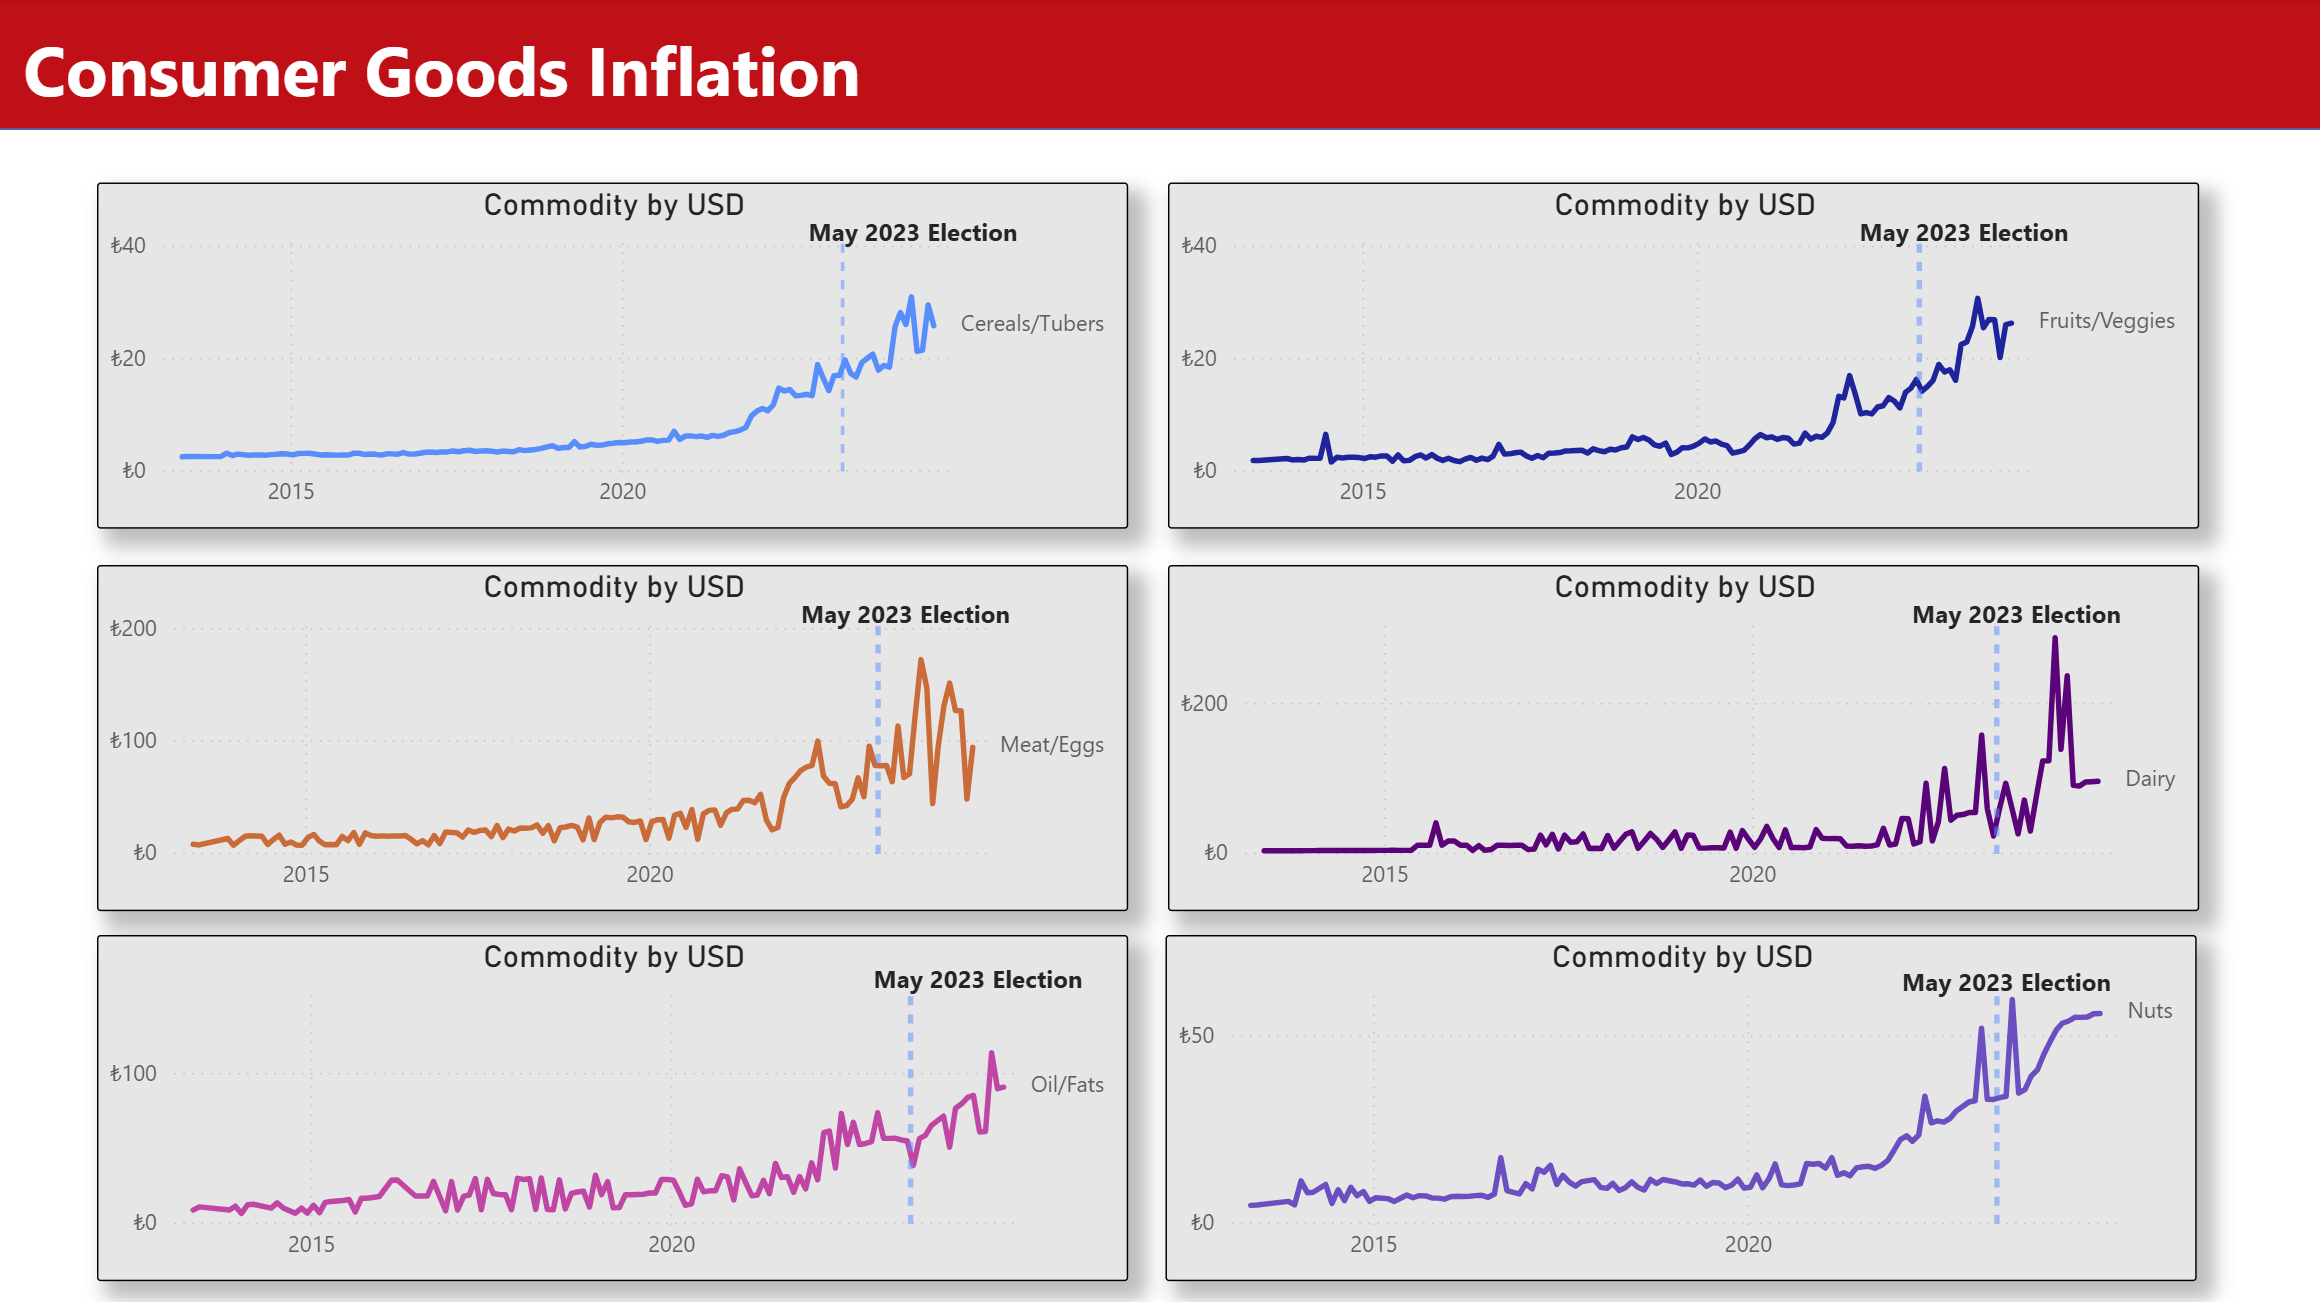

What the dashboard file says about the page in this screenshot:
{"tool":"powerbi","page":{"name":"Inflation","canvas":[1280,720],"ordinal":2},"visuals":[{"type":"shape","box":[0,0,1280.3,74.1],"z":0},{"type":"lineChart","title":"Commodity by USD","fields":{"Category":["wfp_food_prices_tur.date"],"Series":["wfp_food_prices_tur.category"],"Y":["Median(wfp_food_prices_tur.price)"]},"box":[55,103.2,566.1,190],"z":1000},{"type":"lineChart","title":"Commodity by USD","fields":{"Category":["wfp_food_prices_tur.date"],"Series":["wfp_food_prices_tur.category"],"Y":["Median(wfp_food_prices_tur.price)"]},"box":[55,312.9,566.1,190],"z":2000},{"type":"lineChart","title":"Commodity by USD","fields":{"Category":["wfp_food_prices_tur.date"],"Series":["wfp_food_prices_tur.category"],"Y":["Median(wfp_food_prices_tur.price)"]},"box":[54.5,516.4,566.1,190],"z":3000},{"type":"lineChart","title":"Commodity by USD","fields":{"Category":["wfp_food_prices_tur.date"],"Series":["wfp_food_prices_tur.category"],"Y":["Median(wfp_food_prices_tur.price)"]},"box":[641.5,103.2,566.1,190],"z":4000},{"type":"lineChart","title":"Commodity by USD","fields":{"Category":["wfp_food_prices_tur.date"],"Series":["wfp_food_prices_tur.category"],"Y":["Median(wfp_food_prices_tur.price)"]},"box":[641.5,312.9,566.1,190],"z":5000},{"type":"lineChart","title":"Commodity by USD","fields":{"Category":["wfp_food_prices_tur.date"],"Series":["wfp_food_prices_tur.category"],"Y":["Median(wfp_food_prices_tur.price)"]},"box":[641,516.4,566.1,190],"z":6000},{"type":"textbox","box":[441,115.4,144.7,36.5],"z":7000},{"type":"textbox","box":[436.4,324.5,144.3,37.3],"z":8000},{"type":"textbox","box":[475.7,526.1,144.7,36.5],"z":9000},{"type":"textbox","box":[1017.1,115.4,144.7,36.5],"z":10000},{"type":"textbox","box":[1045.8,324.9,144.7,36.5],"z":11000},{"type":"textbox","box":[1040.5,526.3,144.3,36.1],"z":12000},{"type":"textbox","box":[10,10,731.4,73.4],"z":12001}]}

Visuals, with their boxes in screenshot pixels (x1, y1, x2, y2), scaled from the page's 1280x720 canvas onto the 2320x1302 screenshot:
shape: [left=0, top=0, right=2319, bottom=134]
"Commodity by USD" lineChart: [left=100, top=187, right=1126, bottom=530]
"Commodity by USD" lineChart: [left=100, top=566, right=1126, bottom=909]
"Commodity by USD" lineChart: [left=99, top=934, right=1125, bottom=1277]
"Commodity by USD" lineChart: [left=1163, top=187, right=2189, bottom=530]
"Commodity by USD" lineChart: [left=1163, top=566, right=2189, bottom=909]
"Commodity by USD" lineChart: [left=1162, top=934, right=2188, bottom=1277]
textbox: [left=799, top=209, right=1062, bottom=275]
textbox: [left=791, top=587, right=1053, bottom=654]
textbox: [left=862, top=951, right=1124, bottom=1017]
textbox: [left=1843, top=209, right=2106, bottom=275]
textbox: [left=1896, top=588, right=2158, bottom=654]
textbox: [left=1886, top=952, right=2147, bottom=1017]
textbox: [left=18, top=18, right=1344, bottom=151]
